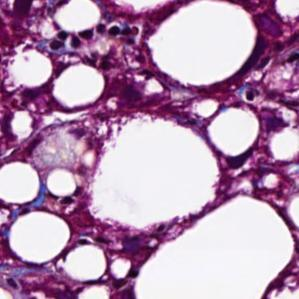inflammation: (46, 18, 142, 55)
